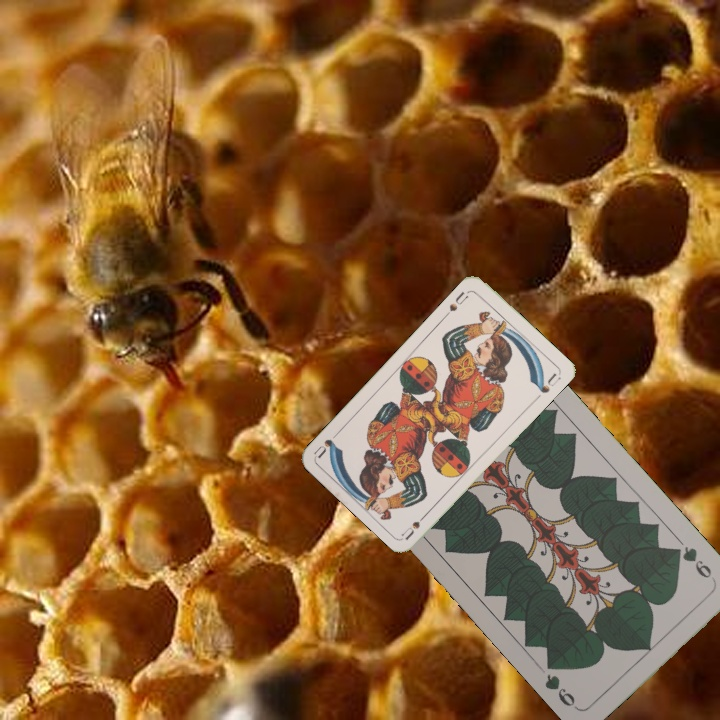G9: (668, 542, 719, 586)
SU: (398, 507, 432, 542), (441, 287, 472, 320)
